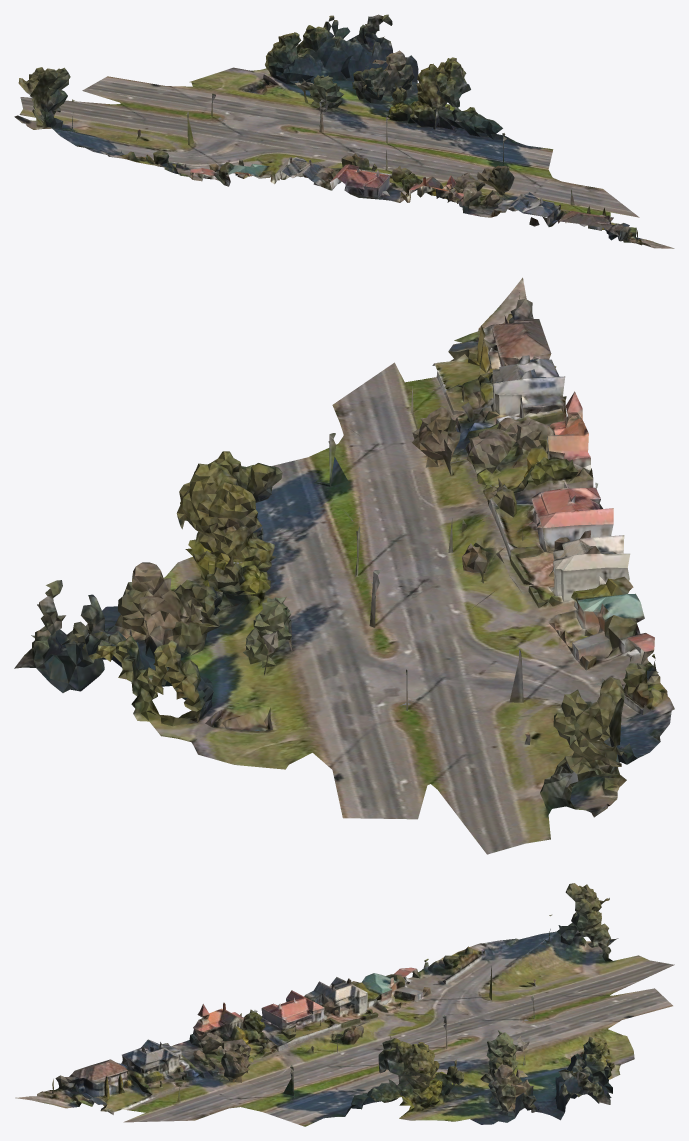
The model's file is Tile_004_010_L18.gltf.
3 renders of one model, top to bottom at view 1: azimuth 30°, elevation 25°; view 2: azimuth 150°, elevation 25°; view 3: azimuth 270°, elevation 25°, orthographic. The views are drawn at different scales.
Visible parts, largest first — view 1: Tile_+004_+010_L18; view 2: Tile_+004_+010_L18; view 3: Tile_+004_+010_L18.
Part boxes in pixels (bbox=[...]): Tile_+004_+010_L18: bbox=[14, 14, 674, 248]; Tile_+004_+010_L18: bbox=[14, 277, 674, 854]; Tile_+004_+010_L18: bbox=[15, 883, 674, 1126].
Size of the model in its own units: 128 by 25.55 by 197.
Materials: 1 (1 with a texture image).
